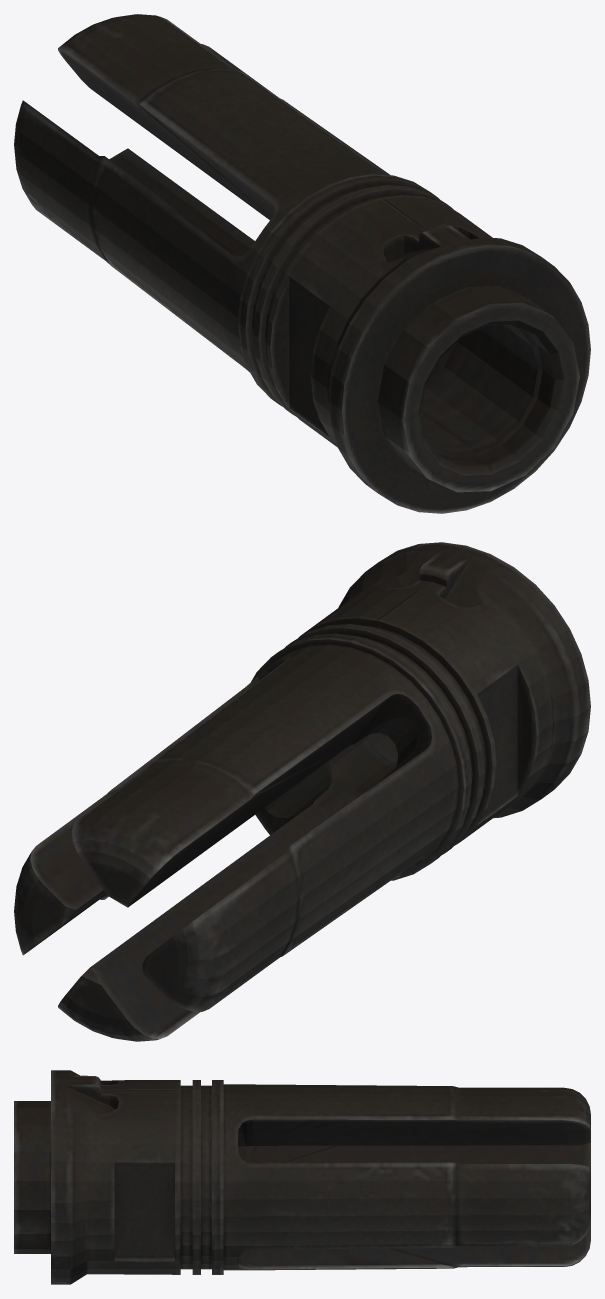
3 views of the same model, one above another, from view 1: azimuth 30°, elevation 25°; view 2: azimuth 150°, elevation 25°; view 3: azimuth 270°, elevation 25° (orthographic). The views are drawn at different scales.
Visible parts, largest first — view 1: TW_5ea172e498dacb342978818e_PZ_Import; view 2: TW_5ea172e498dacb342978818e_PZ_Import; view 3: TW_5ea172e498dacb342978818e_PZ_Import.
Boxes of the visible parts, x1,y1,x2,y2 form: TW_5ea172e498dacb342978818e_PZ_Import: (14, 14, 590, 513); TW_5ea172e498dacb342978818e_PZ_Import: (14, 542, 590, 1041); TW_5ea172e498dacb342978818e_PZ_Import: (14, 1070, 590, 1284).
Bounding box in the file's own units: 0.0145 × 0.039 × 0.0145.
Materials: 1 (1 with a texture image).
